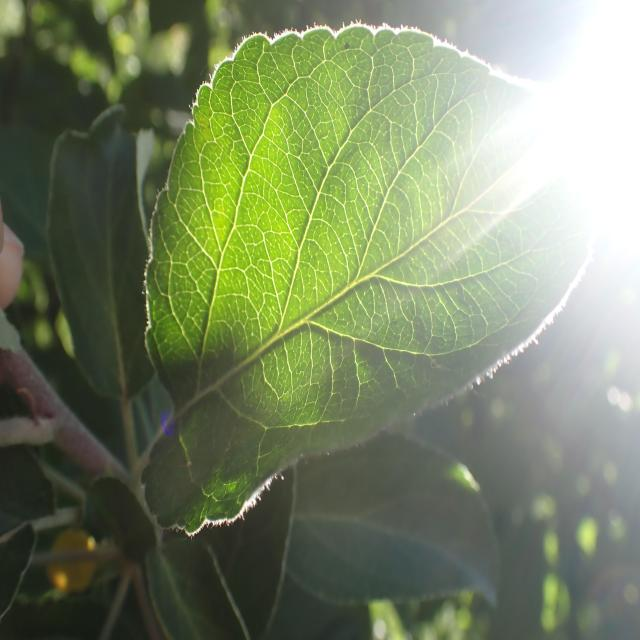healthy: (140, 21, 596, 536), (228, 429, 500, 607), (45, 103, 153, 401)
